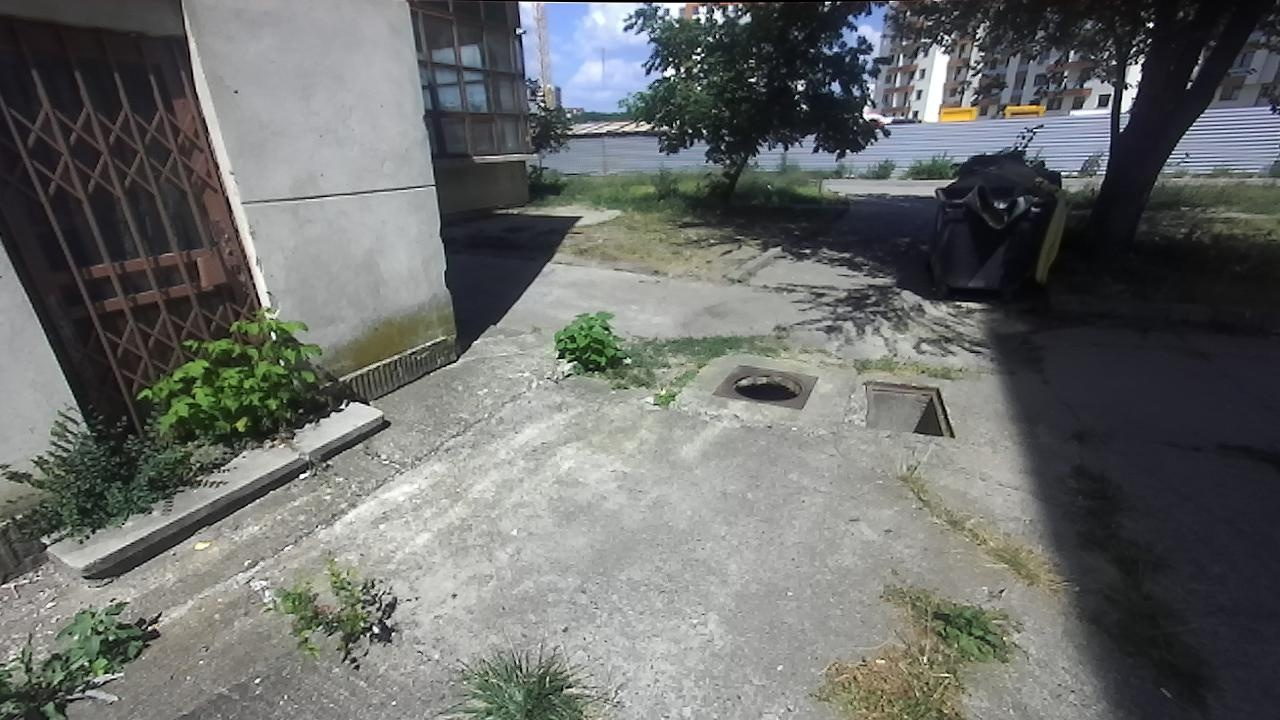drain: (860, 377, 961, 440), (721, 368, 806, 403)
